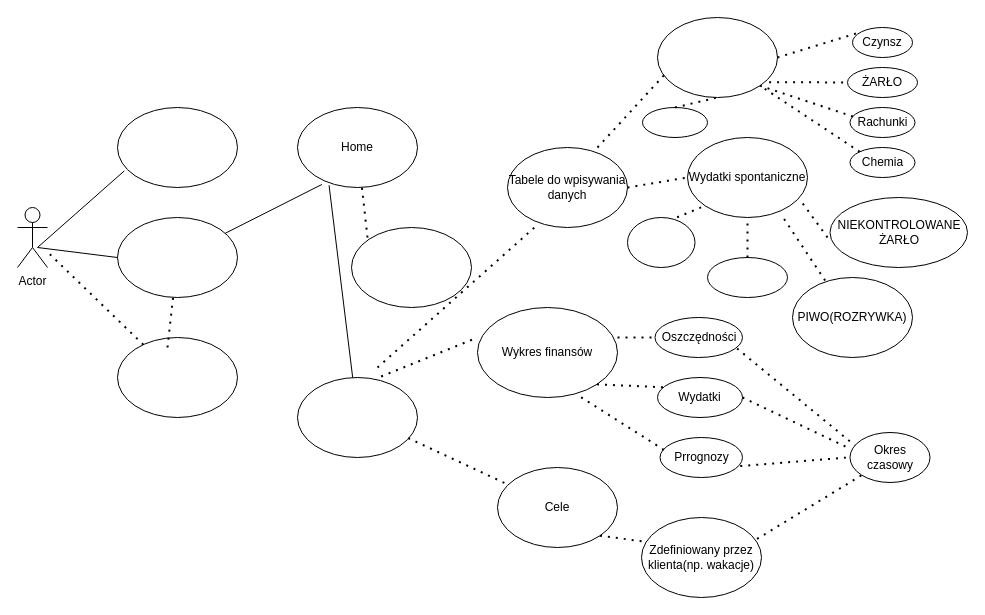
Image size: 985x615. Some labels were removed from this diagram. The shapes that lost their labels are listed below. From the top down, each one's centre as x and y in pixels, then its label:
(x=717, y=57): Wydatki niezbędne
(x=675, y=122): Transport
(x=177, y=147): Rejestracja
(x=177, y=257): Logowanie
(x=660, y=242): Hobby
(x=411, y=267): Zmień hasło
(x=747, y=277): Teskstylia i odzież
(x=177, y=377): Zapomnienie hasłą
(x=357, y=417): Przejdź do
